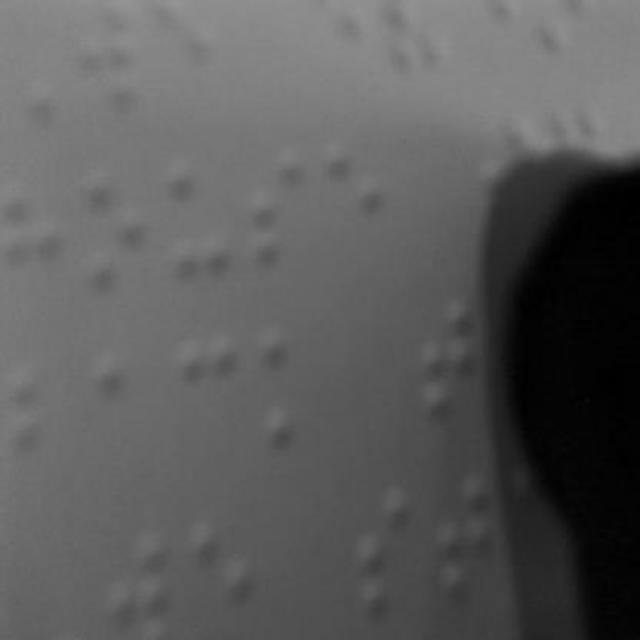braiile: (84, 161, 158, 305), (258, 325, 336, 451), (188, 508, 262, 640), (1, 182, 74, 314), (324, 129, 392, 269), (356, 485, 422, 625), (437, 466, 498, 614), (166, 144, 232, 280), (176, 322, 244, 451), (419, 295, 485, 427), (95, 344, 162, 474), (250, 138, 312, 278), (14, 361, 80, 491)
